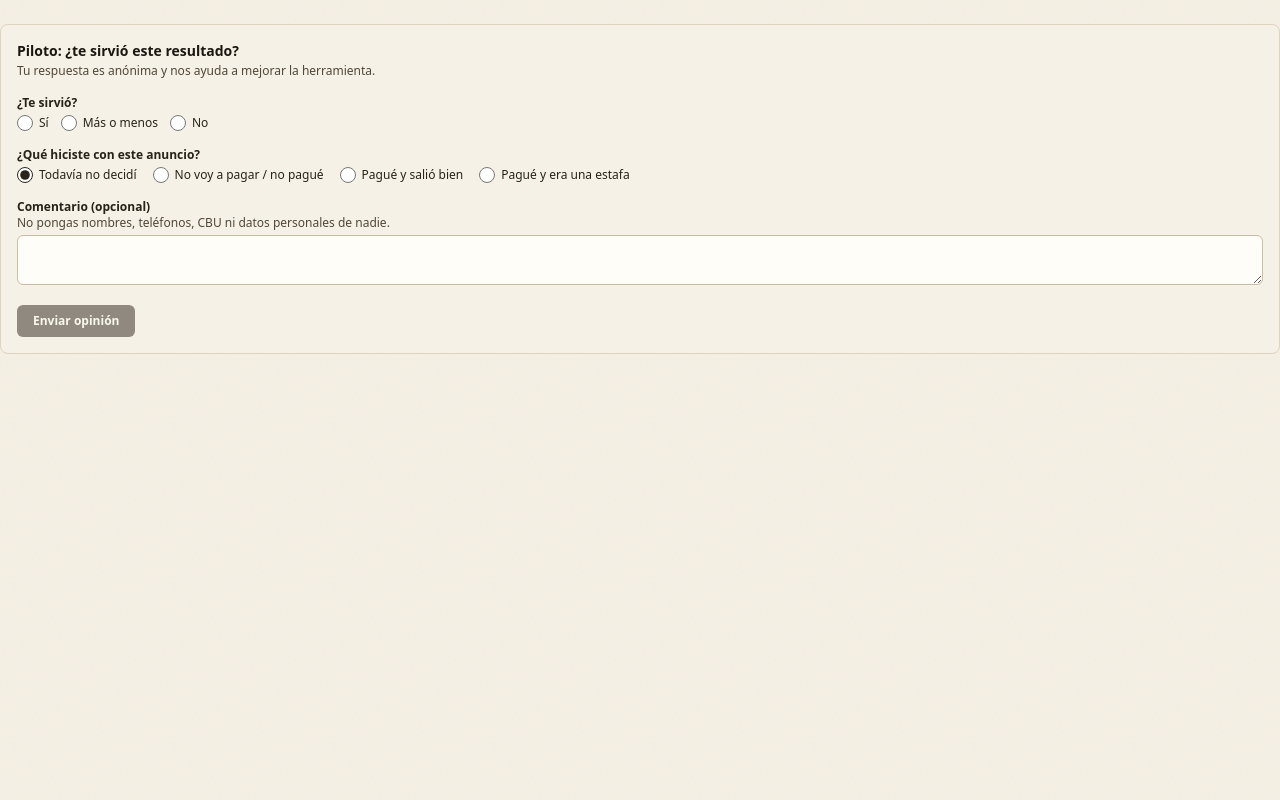
FeedbackCard › el botón está deshabilitado hasta elegir si te sirvió
Expected: the button "Enviar opinión" is disabled, [17,305,136,337]
What coordinates should you click on to do the following:
click the radio button labelled "Más o menos"
I would click on:
 (69, 123)
Its box is [61,115,77,131].
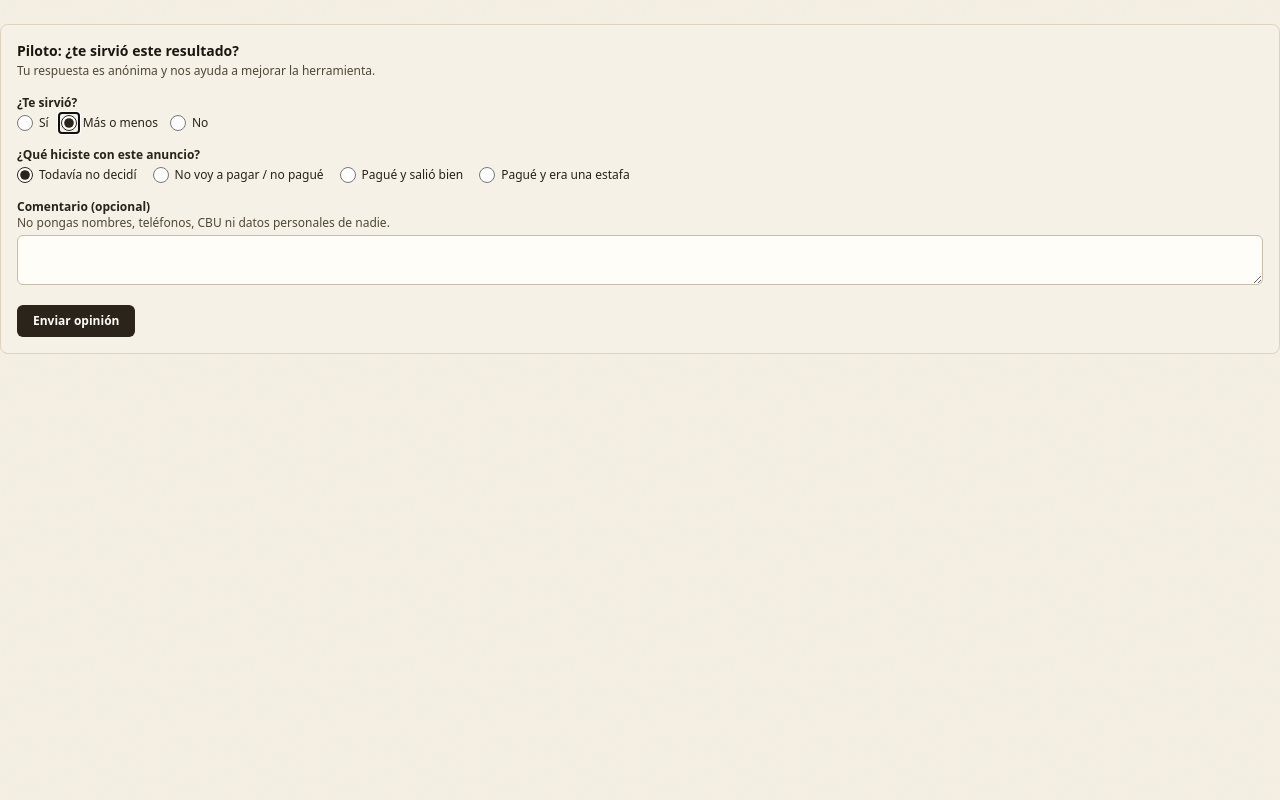
Expected: the button "Enviar opinión" is enabled, [17,305,136,337]
